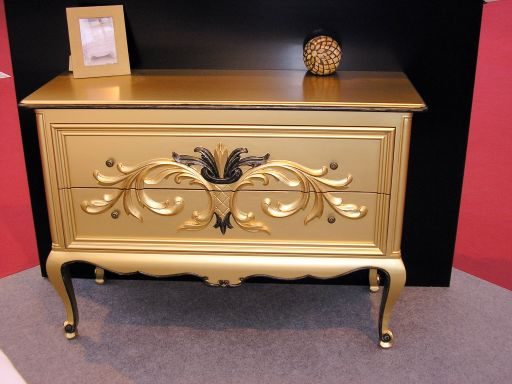Carving Table: (26, 73, 433, 352)
